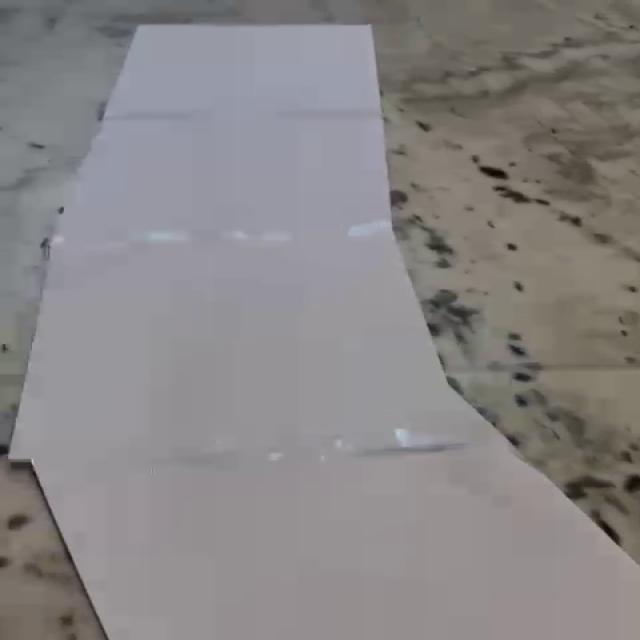road: (8, 24, 640, 640)
